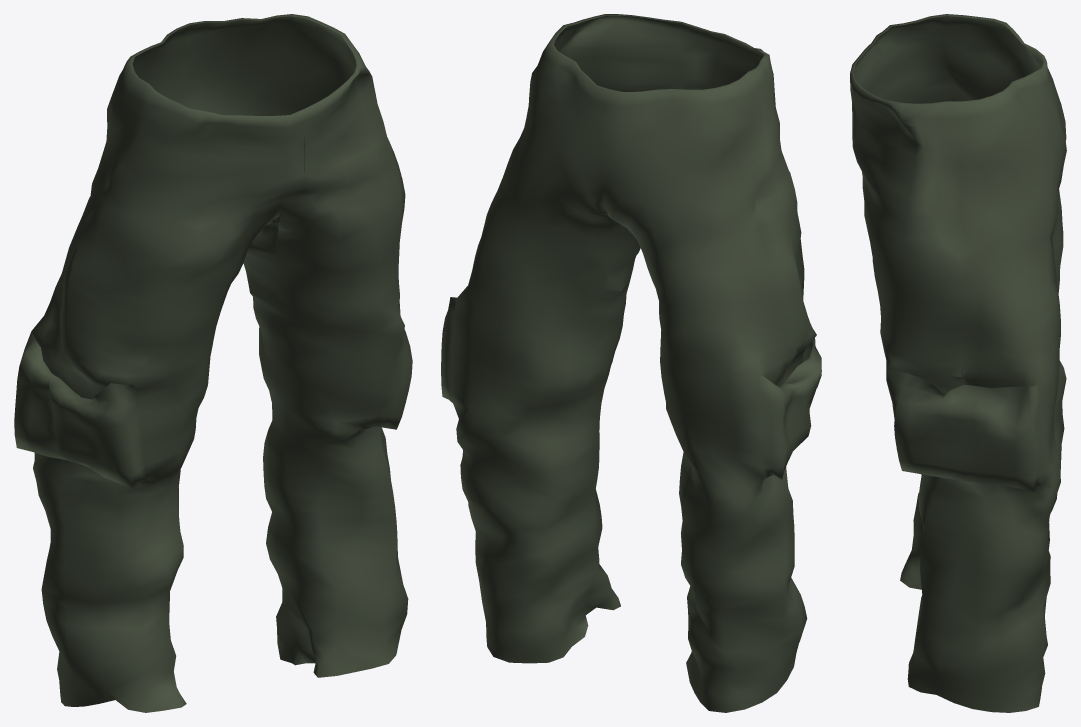
File: pant-default.glb
3 views of the same model, side by side, from view 1: azimuth 30°, elevation 25°; view 2: azimuth 150°, elevation 25°; view 3: azimuth 270°, elevation 25° (orthographic). The views are drawn at different scales.
Visible parts, largest first — view 1: pants__pants_0; view 2: pants__pants_0; view 3: pants__pants_0.
Boxes of the visible parts, <box> form: pants__pants_0: <box>14,14,412,712</box>; pants__pants_0: <box>441,14,821,712</box>; pants__pants_0: <box>850,14,1066,712</box>.
Bounding box in the file's own units: 0.533 × 0.8972 × 0.296.
1 material, 1 textured.
